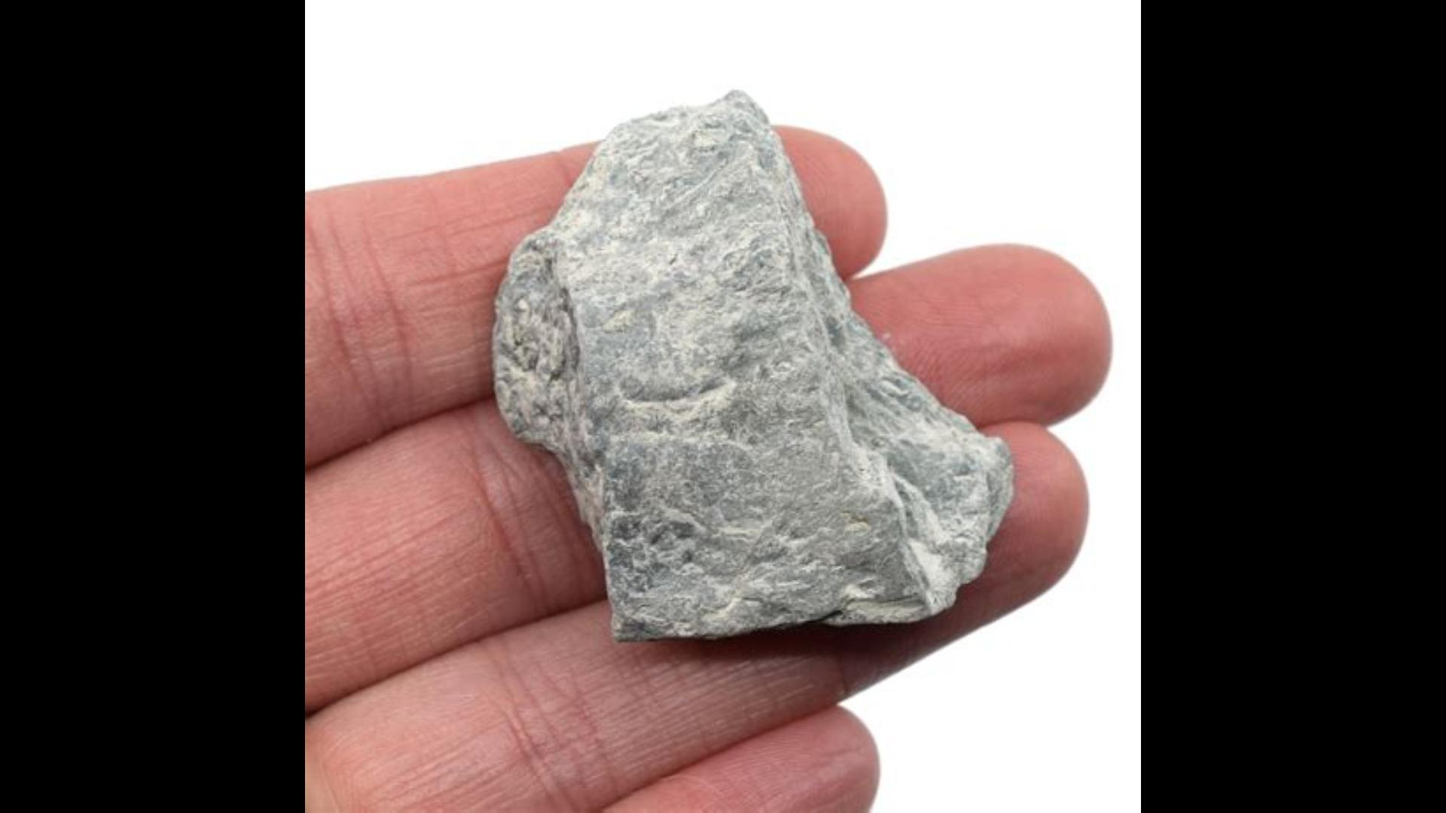rock: (494, 97, 1009, 635)
